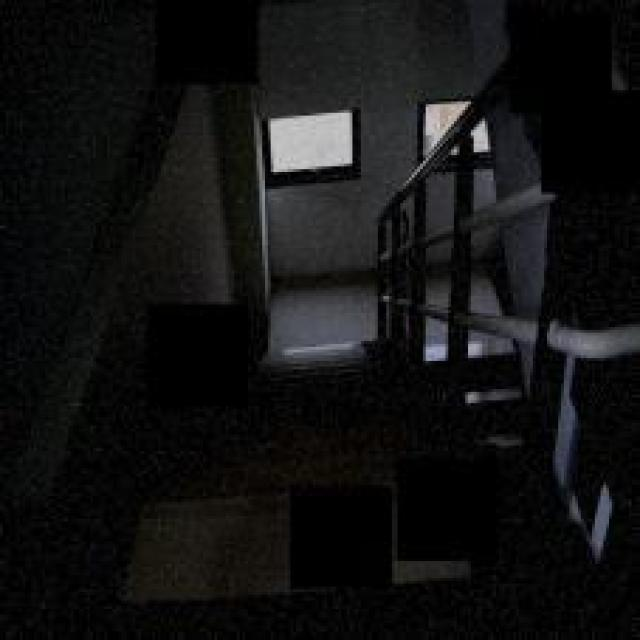downstair: (272, 323, 370, 467)
